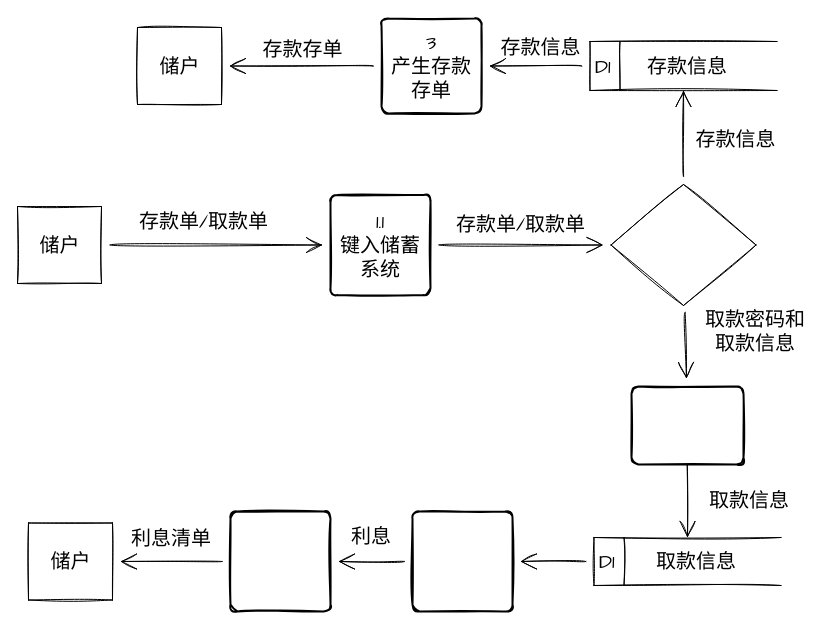
This 830x629 diagram has some shape labels left out. Here are the shapes that lost their labels. From the top down, the centre of each, then its label:
point 683,245: 1.2 判断存取款
point 687,425: 2.1 核对储户密码
point 280,561: 2.3 打印利息清单
point 462,561: 2.2 计算利息
